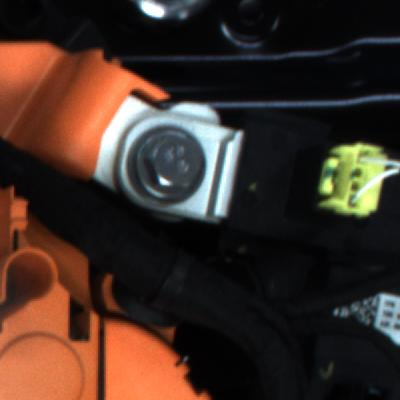nut_b: (125, 122, 220, 213)
